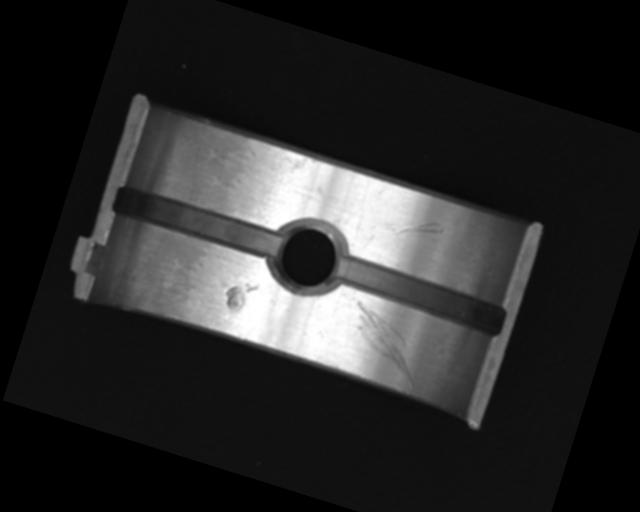bruise: (221, 275, 259, 315)
gap: (330, 252, 508, 337), (112, 182, 285, 262)
hole: (264, 211, 350, 300)
nick: (336, 300, 433, 390), (386, 208, 445, 250)
